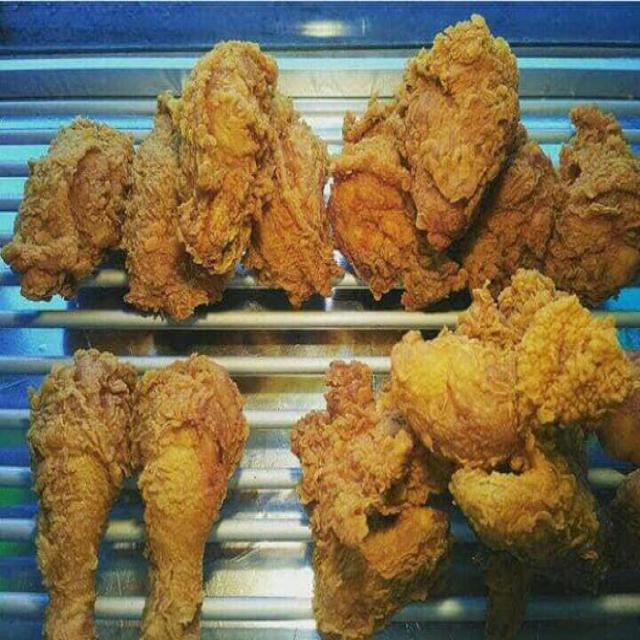Chicken -Fried Chicken-: (27, 346, 139, 640), (135, 354, 246, 640), (400, 11, 521, 252), (0, 87, 133, 300), (172, 36, 281, 280), (332, 96, 462, 298), (122, 108, 230, 323), (248, 108, 346, 311), (548, 101, 636, 306)
